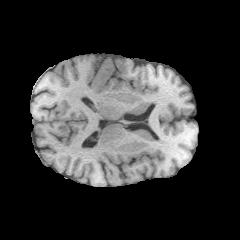glioma: (95, 58, 133, 87)
